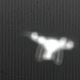plane: (21, 28, 76, 66)
